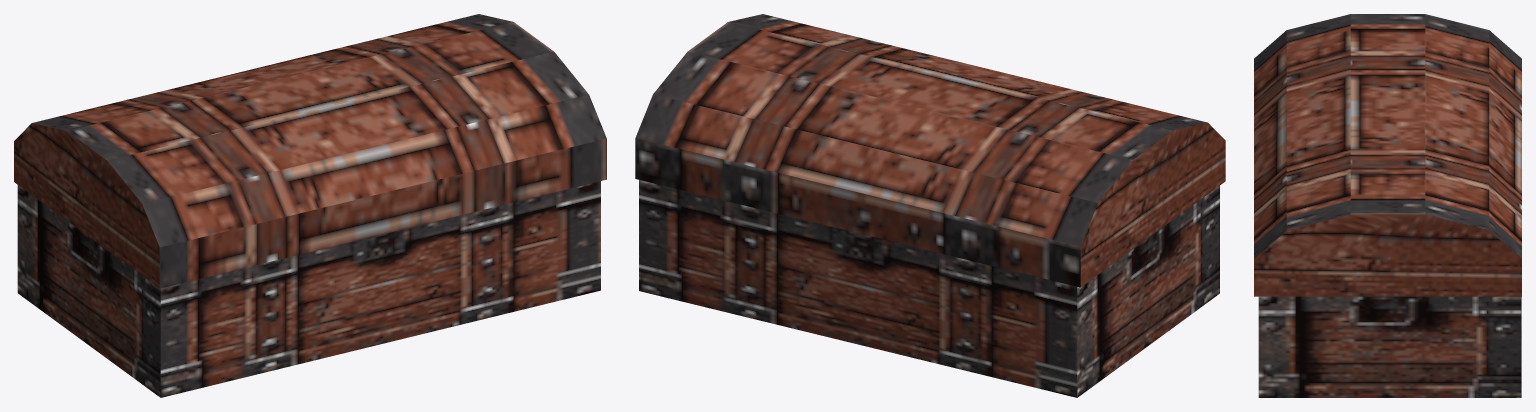
File: chest.fbx
The picture shows the model from 3 angles, left to right: view 1: azimuth 30°, elevation 25°; view 2: azimuth 150°, elevation 25°; view 3: azimuth 270°, elevation 25°; orthographic projection. The views are drawn at different scales.
Visible parts, largest first — view 1: Cube.001, Cube; view 2: Cube.001, Cube; view 3: Cube.001, Cube.
Part boxes in pixels (x1,y1,x2,y2): Cube.001: [14, 14, 606, 288]; Cube: [17, 181, 600, 397]; Cube.001: [635, 14, 1225, 287]; Cube: [639, 180, 1219, 397]; Cube.001: [1254, 14, 1521, 296]; Cube: [1258, 296, 1521, 397].
Bounding box in the file's own units: 361 × 155 × 203.
